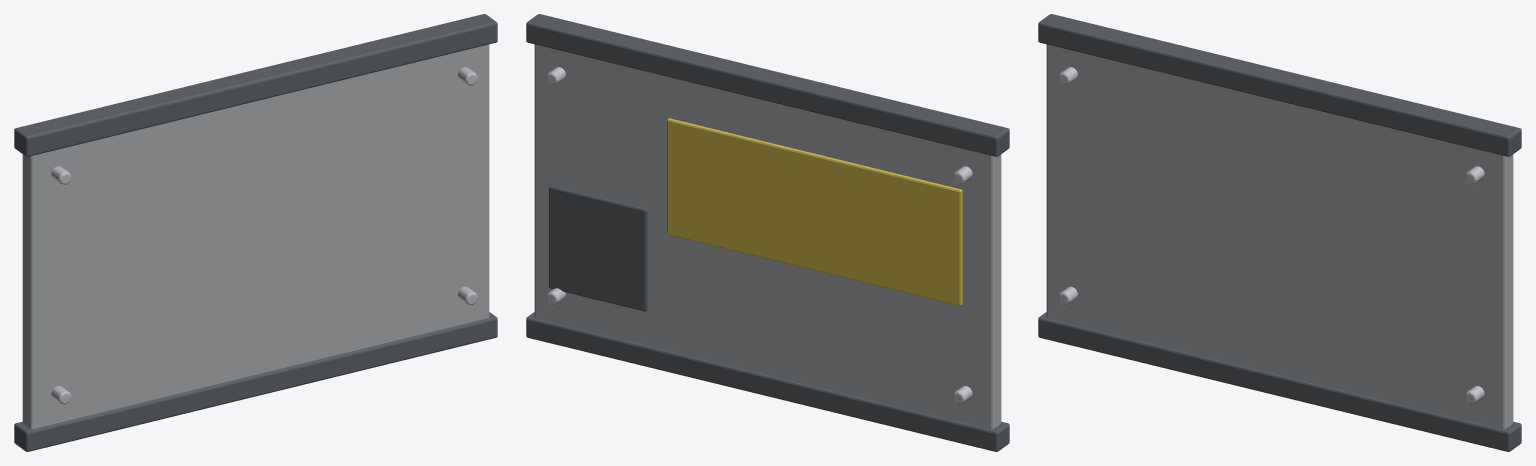
Rendered from sign_plate.fbx.
The picture shows the model from 3 angles, left to right: view 1: azimuth 30°, elevation 25°; view 2: azimuth 150°, elevation 25°; view 3: azimuth 330°, elevation 25°; orthographic projection.
Parts seen in each view (by area): view 1: sign_plate; view 2: sign_plate; view 3: sign_plate.
Boxes of the visible parts, x1,y1,x2,y2 form: sign_plate: (14,14,497,451); sign_plate: (526,14,1009,451); sign_plate: (1038,14,1521,451).
Bounding box in the file's own units: 1.44 × 0.92 × 0.14.
